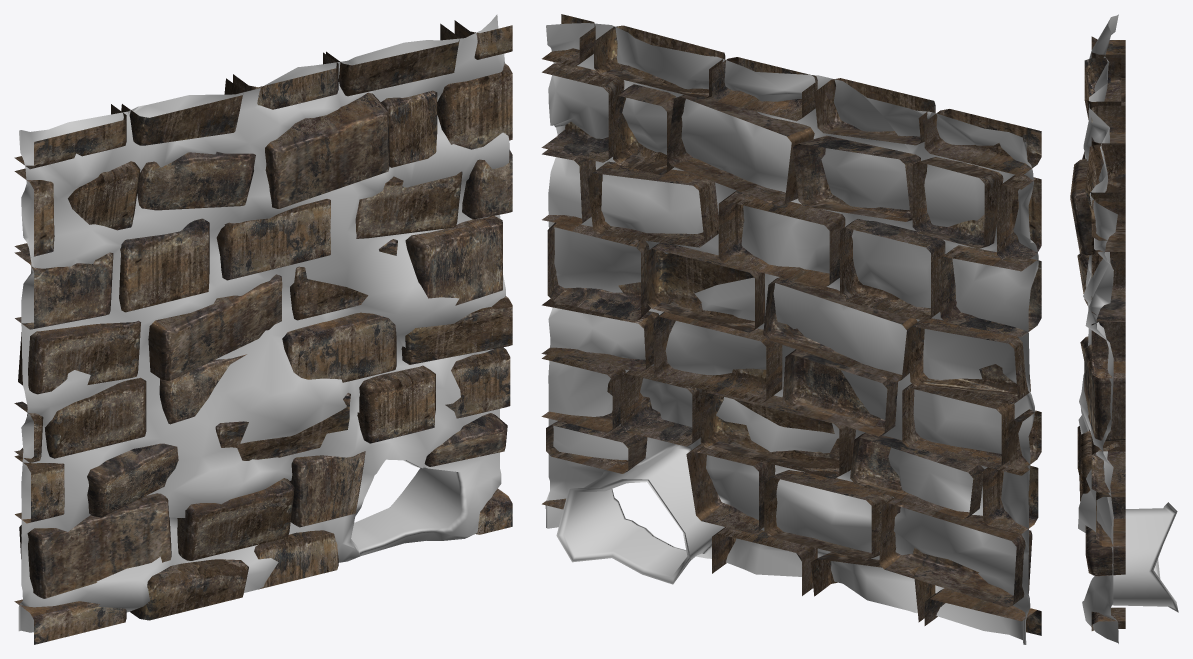
File: wall_taureg_straight_peekhole_bottom.dae
The picture shows the model from 3 angles, left to right: view 1: azimuth 30°, elevation 25°; view 2: azimuth 150°, elevation 25°; view 3: azimuth 270°, elevation 25°; orthographic projection. The views are drawn at different scales.
Visible parts, largest first — view 1: lo_rock, polySurface1; view 2: polySurface1, lo_rock; view 3: lo_rock, polySurface1.
Part boxes in pixels (x1=…): lo_rock: x1=14, y1=20, x2=512, y2=644; polySurface1: x1=18, y1=14, x2=509, y2=632; polySurface1: x1=545, y1=23, x2=1038, y2=644; lo_rock: x1=541, y1=14, x2=1041, y2=635; lo_rock: x1=1070, y1=36, x2=1125, y2=630; polySurface1: x1=1078, y1=14, x2=1178, y2=643.
Size of the model in its own units: 400 by 402 by 91.65.
